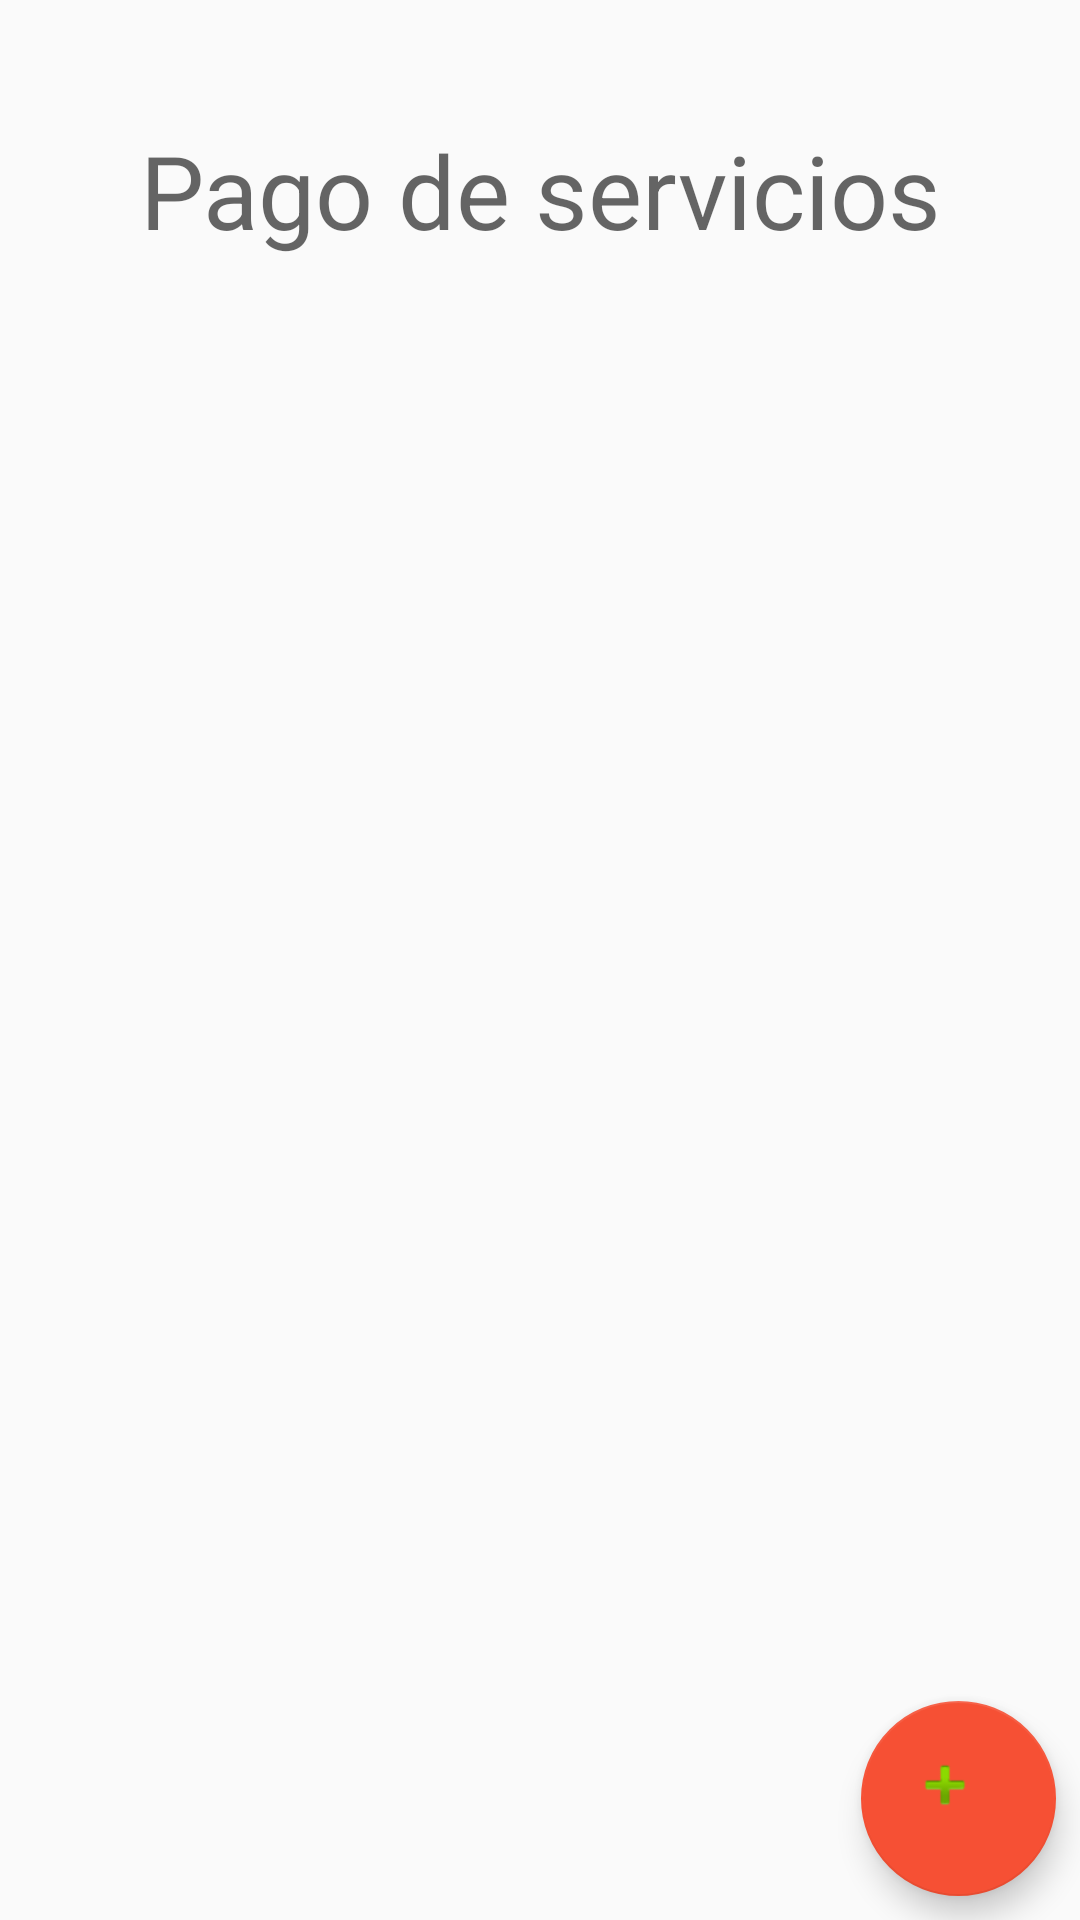

Where icons sit on this 1080 x 1920 app screen, as detection(x1, y1, x2, y2):
add: detection(861, 1701, 1056, 1896)
